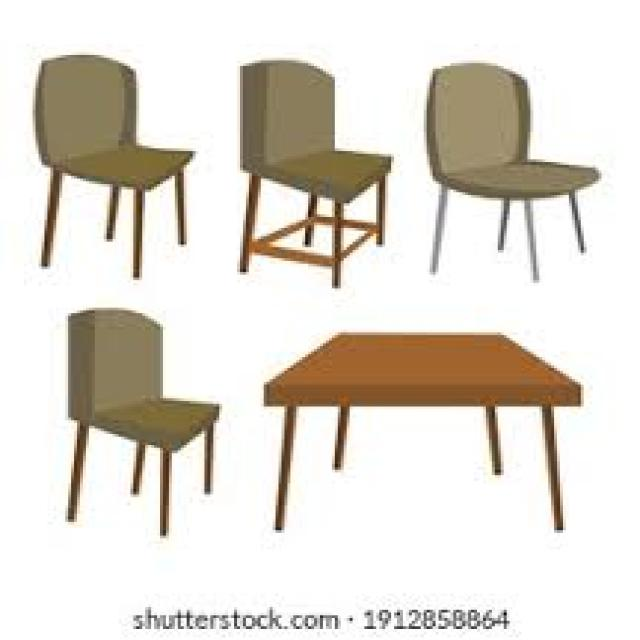obstacle: (408, 36, 622, 298), (23, 22, 211, 282), (229, 26, 394, 296), (50, 293, 219, 546)
